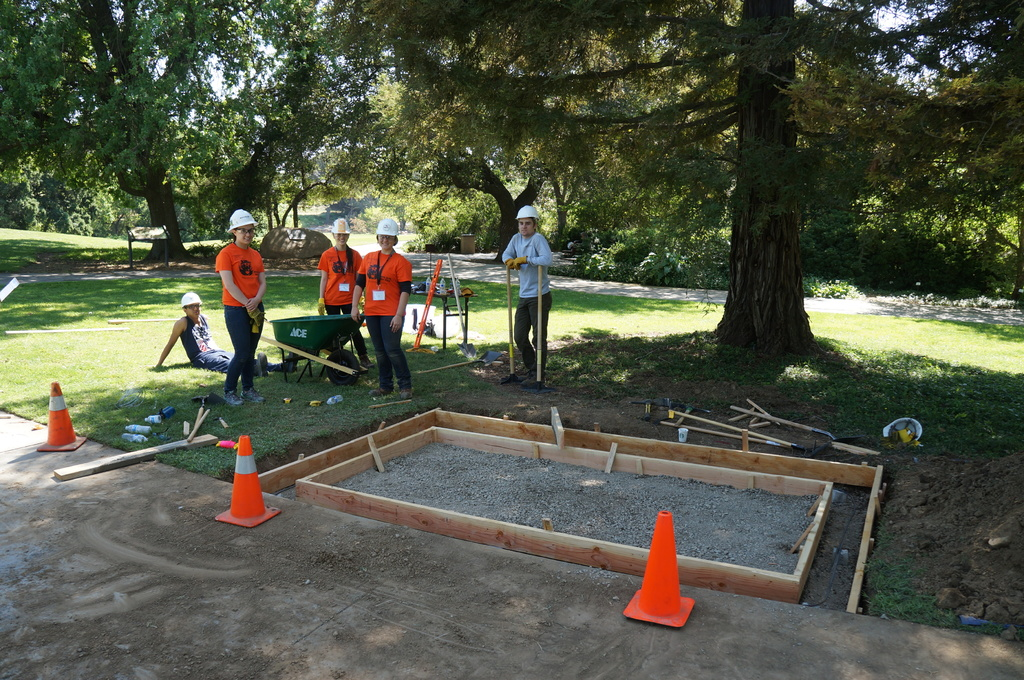Tree: (0, 0, 1024, 361)
